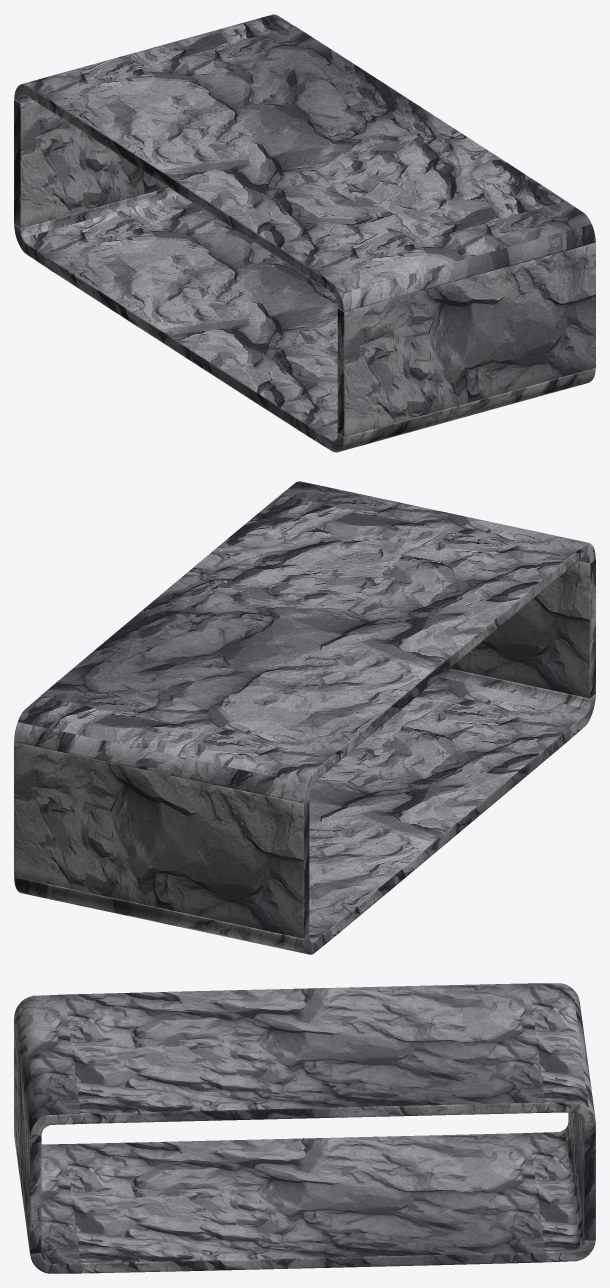
The model's file is Mesa.obj.
The picture shows the model from 3 angles, top to bottom: view 1: azimuth 30°, elevation 25°; view 2: azimuth 150°, elevation 25°; view 3: azimuth 270°, elevation 25°; orthographic projection. The views are drawn at different scales.
Visible parts, largest first — view 1: Mesa:Object001, Mesa:Plane001; view 2: Mesa:Object001, Mesa:Plane001; view 3: Mesa:Object001, Mesa:Plane001.
Boxes of the visible parts, x1=… form: Mesa:Object001: x1=14, y1=14, x2=595, y2=452; Mesa:Plane001: x1=14, y1=99, x2=595, y2=436; Mesa:Object001: x1=14, y1=481, x2=595, y2=954; Mesa:Plane001: x1=14, y1=559, x2=595, y2=938; Mesa:Object001: x1=14, y1=983, x2=595, y2=1273; Mesa:Plane001: x1=14, y1=1017, x2=595, y2=1253.
Bounding box in the file's own units: 0.6771 × 0.4064 × 1.25.
1 material, 1 textured.
